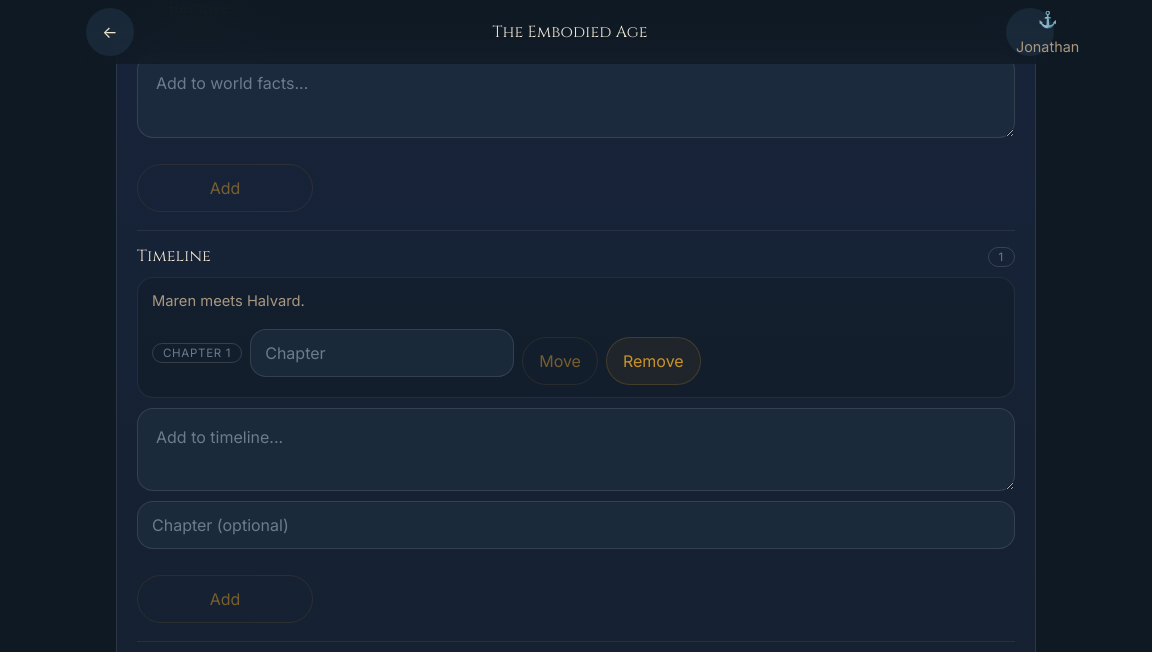
Test: lore entries › removes by index and confirms against a fresh read
(page scrolled)
Click the button with aria-label "Remove timeline entry 1" at (653,361), box [606,337,701,385]
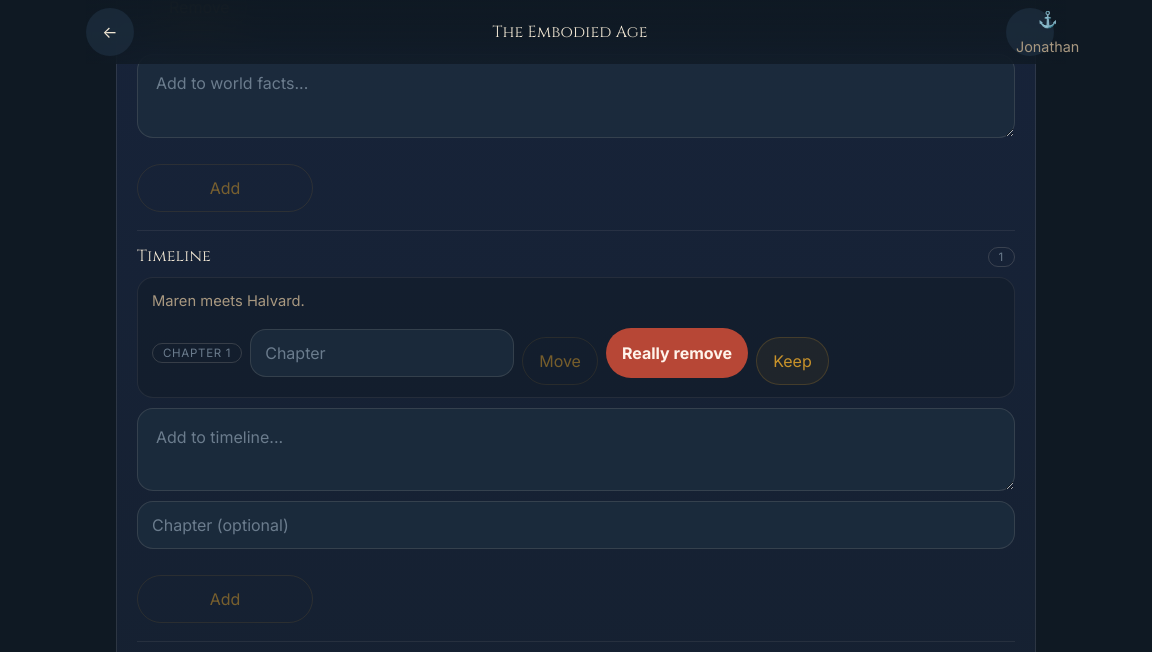
Click the button with aria-label "Really remove timeline entry 1" at (677,353), box [606,328,748,378]
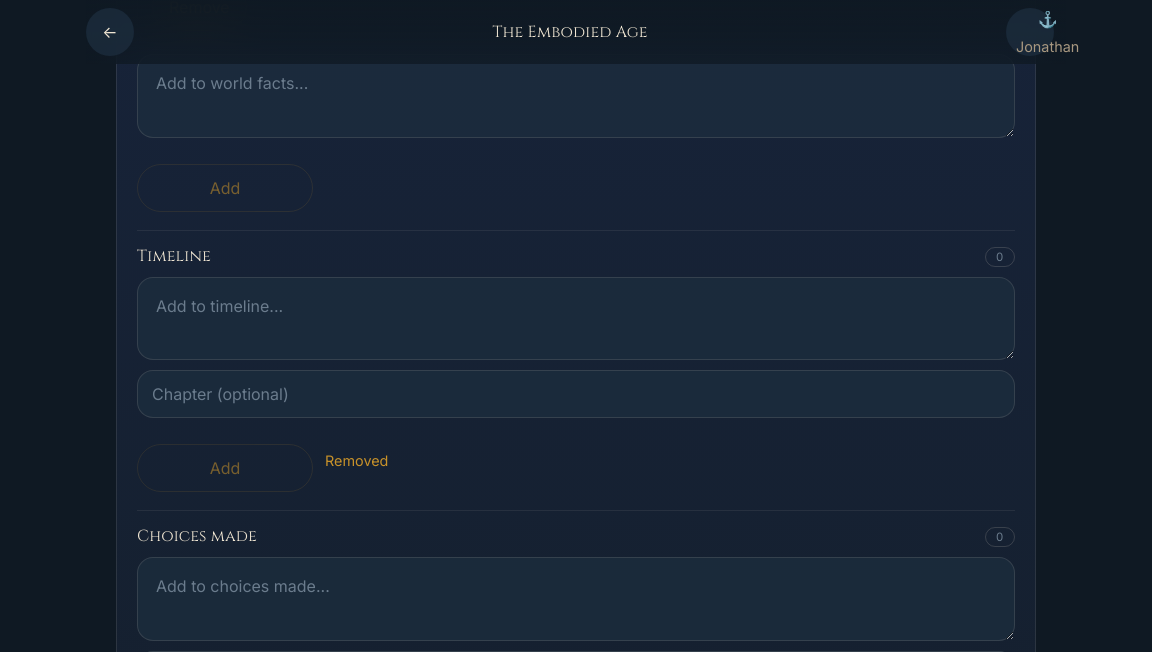
Now the text "Removed" is shown, box [325,452,388,469]
